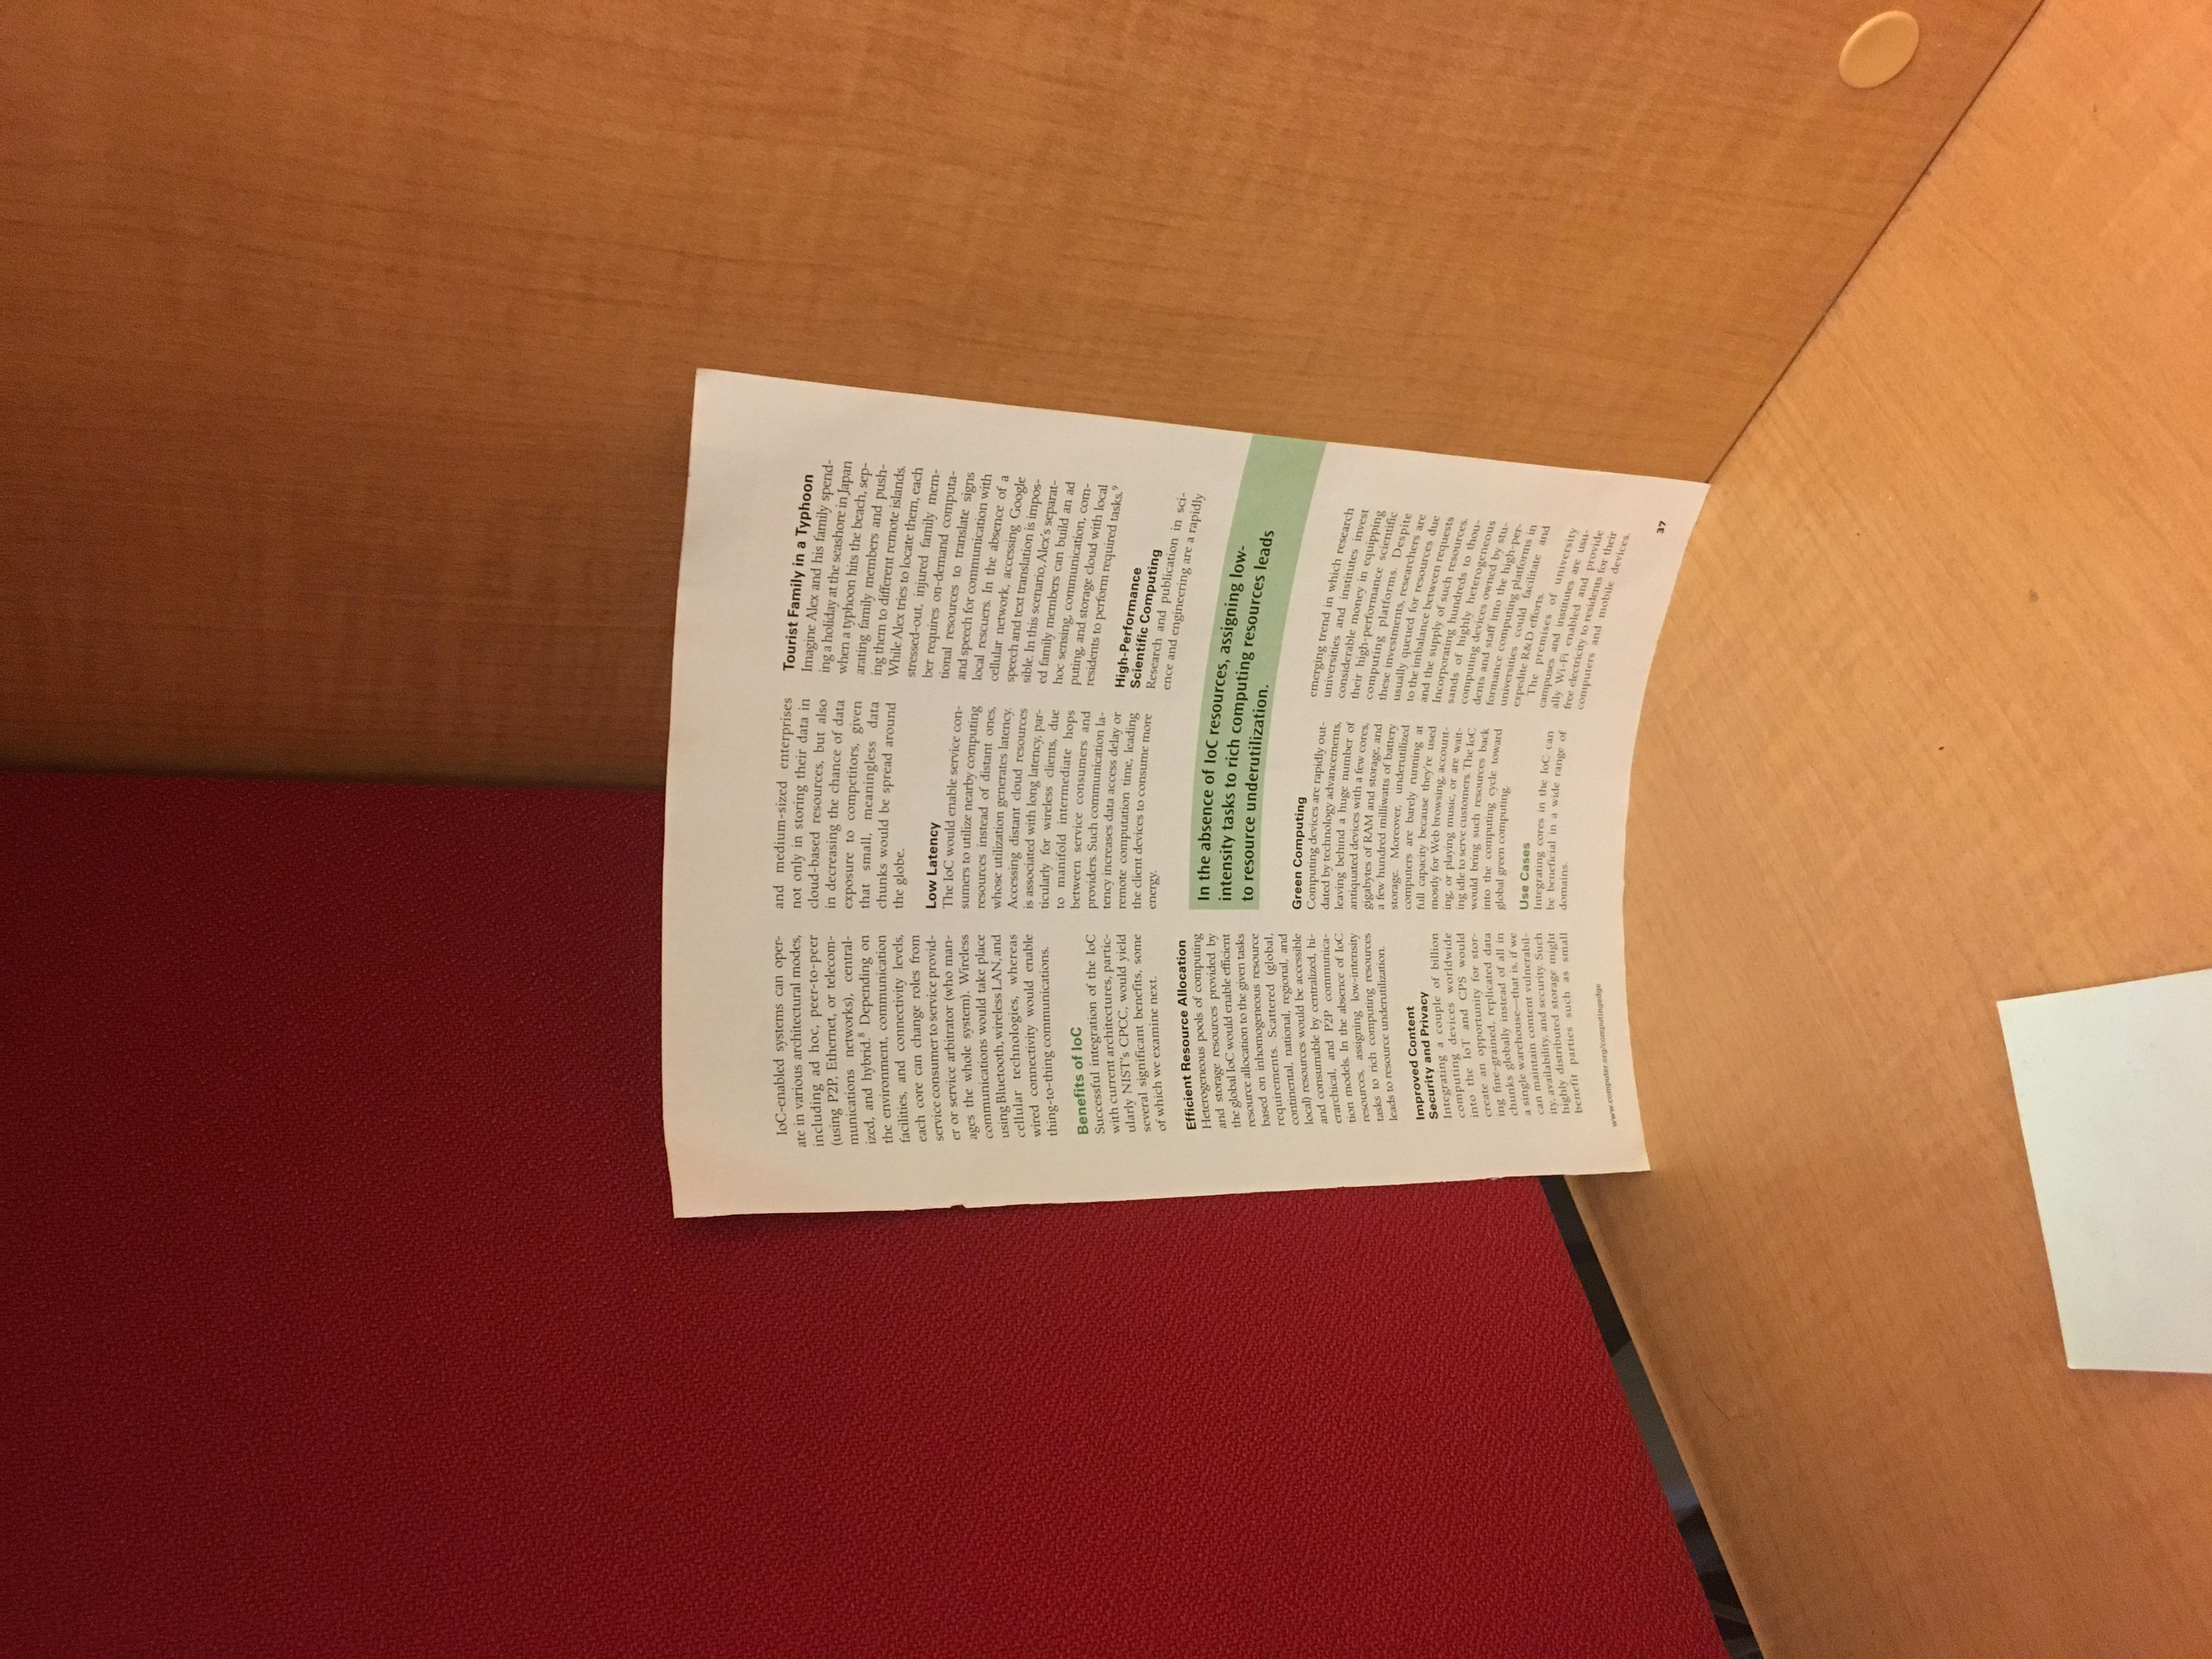paper: (395, 392, 1919, 1398)
